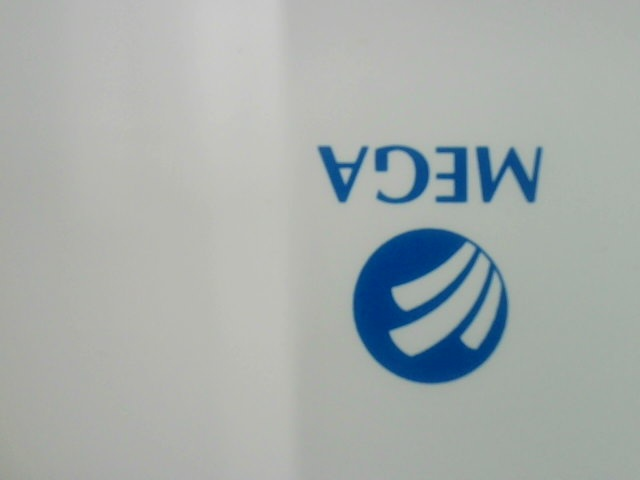AM_ZTEMEGA: (306, 122, 560, 395)
